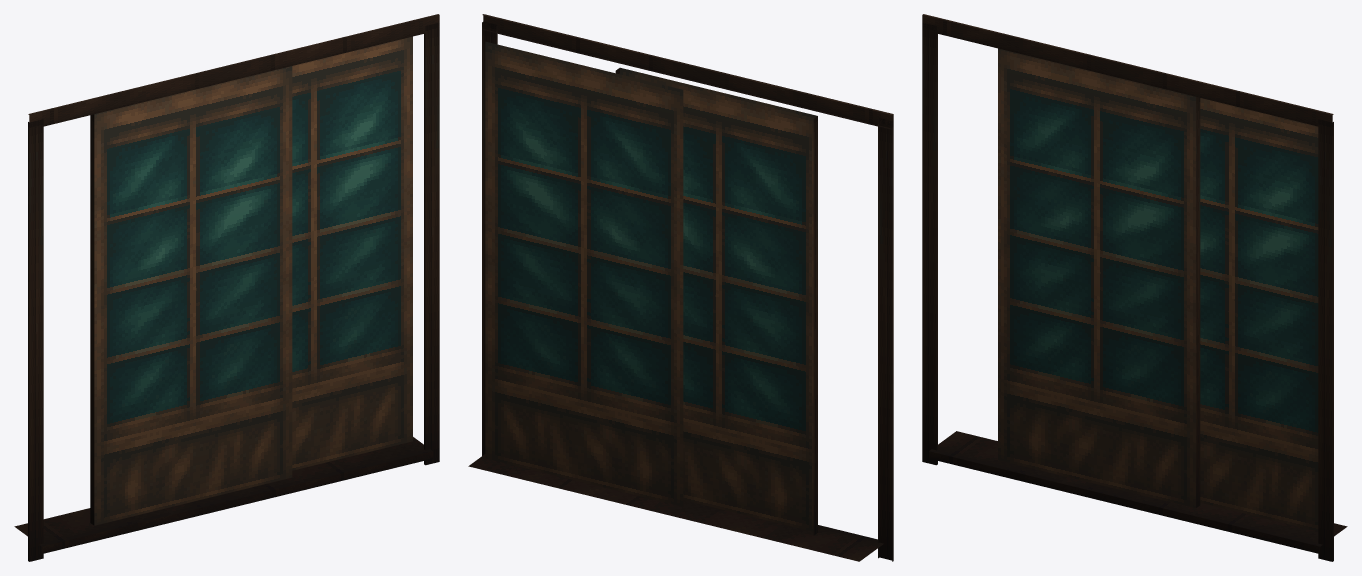
File: prop_sash-16-17-2.glb
3 renders of one model, left to right at view 1: azimuth 30°, elevation 25°; view 2: azimuth 150°, elevation 25°; view 3: azimuth 330°, elevation 25°, orthographic.
Parts seen in each view (by area): view 1: prop_sash-16-17-2; view 2: prop_sash-16-17-2; view 3: prop_sash-16-17-2.
Boxes of the visible parts, x1,y1,x2,y2 form: prop_sash-16-17-2: (14,14,439,561); prop_sash-16-17-2: (468,14,893,561); prop_sash-16-17-2: (922,14,1347,561).
Size of the model in its own units: 1.72 by 1.79 by 0.2.
Materials: 2 (2 with a texture image).
